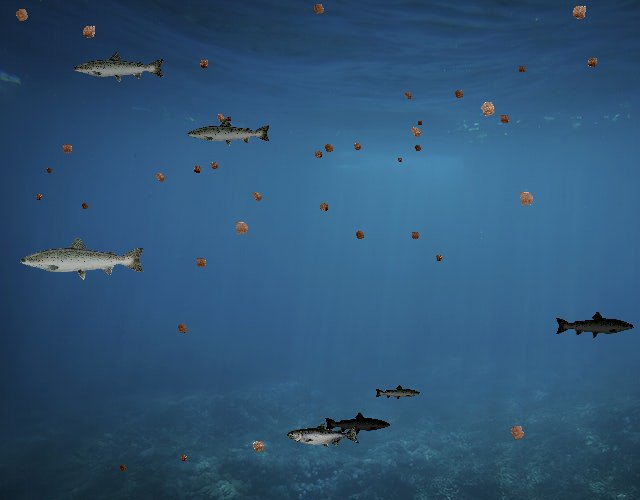Fish: (18, 235, 147, 281), (73, 51, 167, 85), (186, 117, 272, 148), (555, 311, 636, 340), (287, 423, 360, 449), (323, 412, 391, 436), (374, 384, 421, 401)
Pellet: (565, 0, 593, 27), (246, 434, 271, 459), (449, 85, 468, 104), (349, 139, 366, 156), (176, 451, 191, 466), (116, 461, 130, 475), (432, 251, 446, 265), (32, 190, 46, 204)
